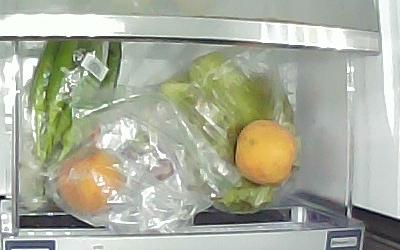peach: (235, 120, 296, 185)
peach_vinyl: (57, 147, 124, 216)
